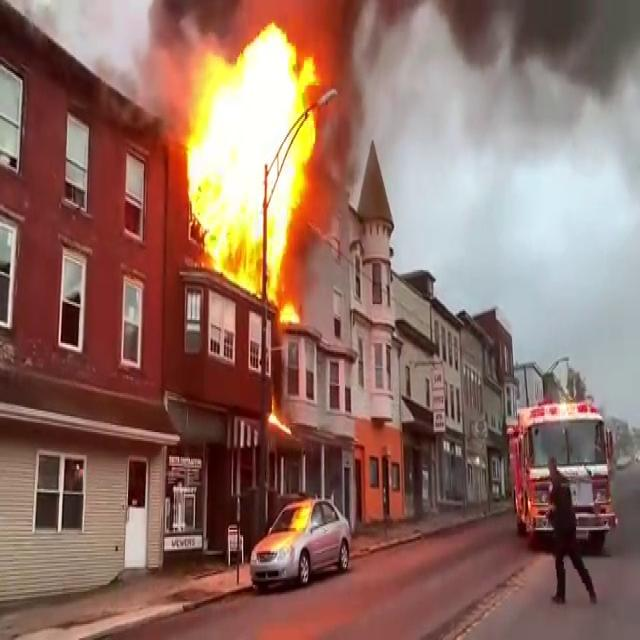Fire: (177, 11, 324, 305)
